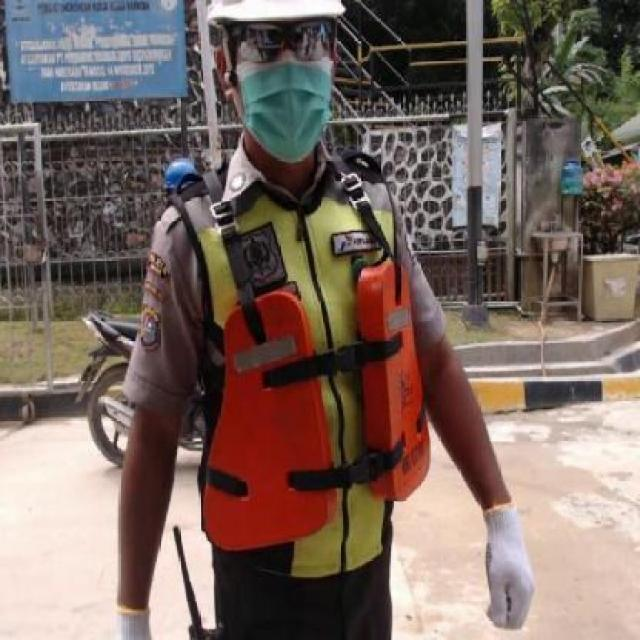Gloves: (469, 497, 542, 640)
Mask: (236, 64, 336, 164)
Protective Glasses: (236, 22, 336, 62)
Vest: (187, 252, 435, 553)
